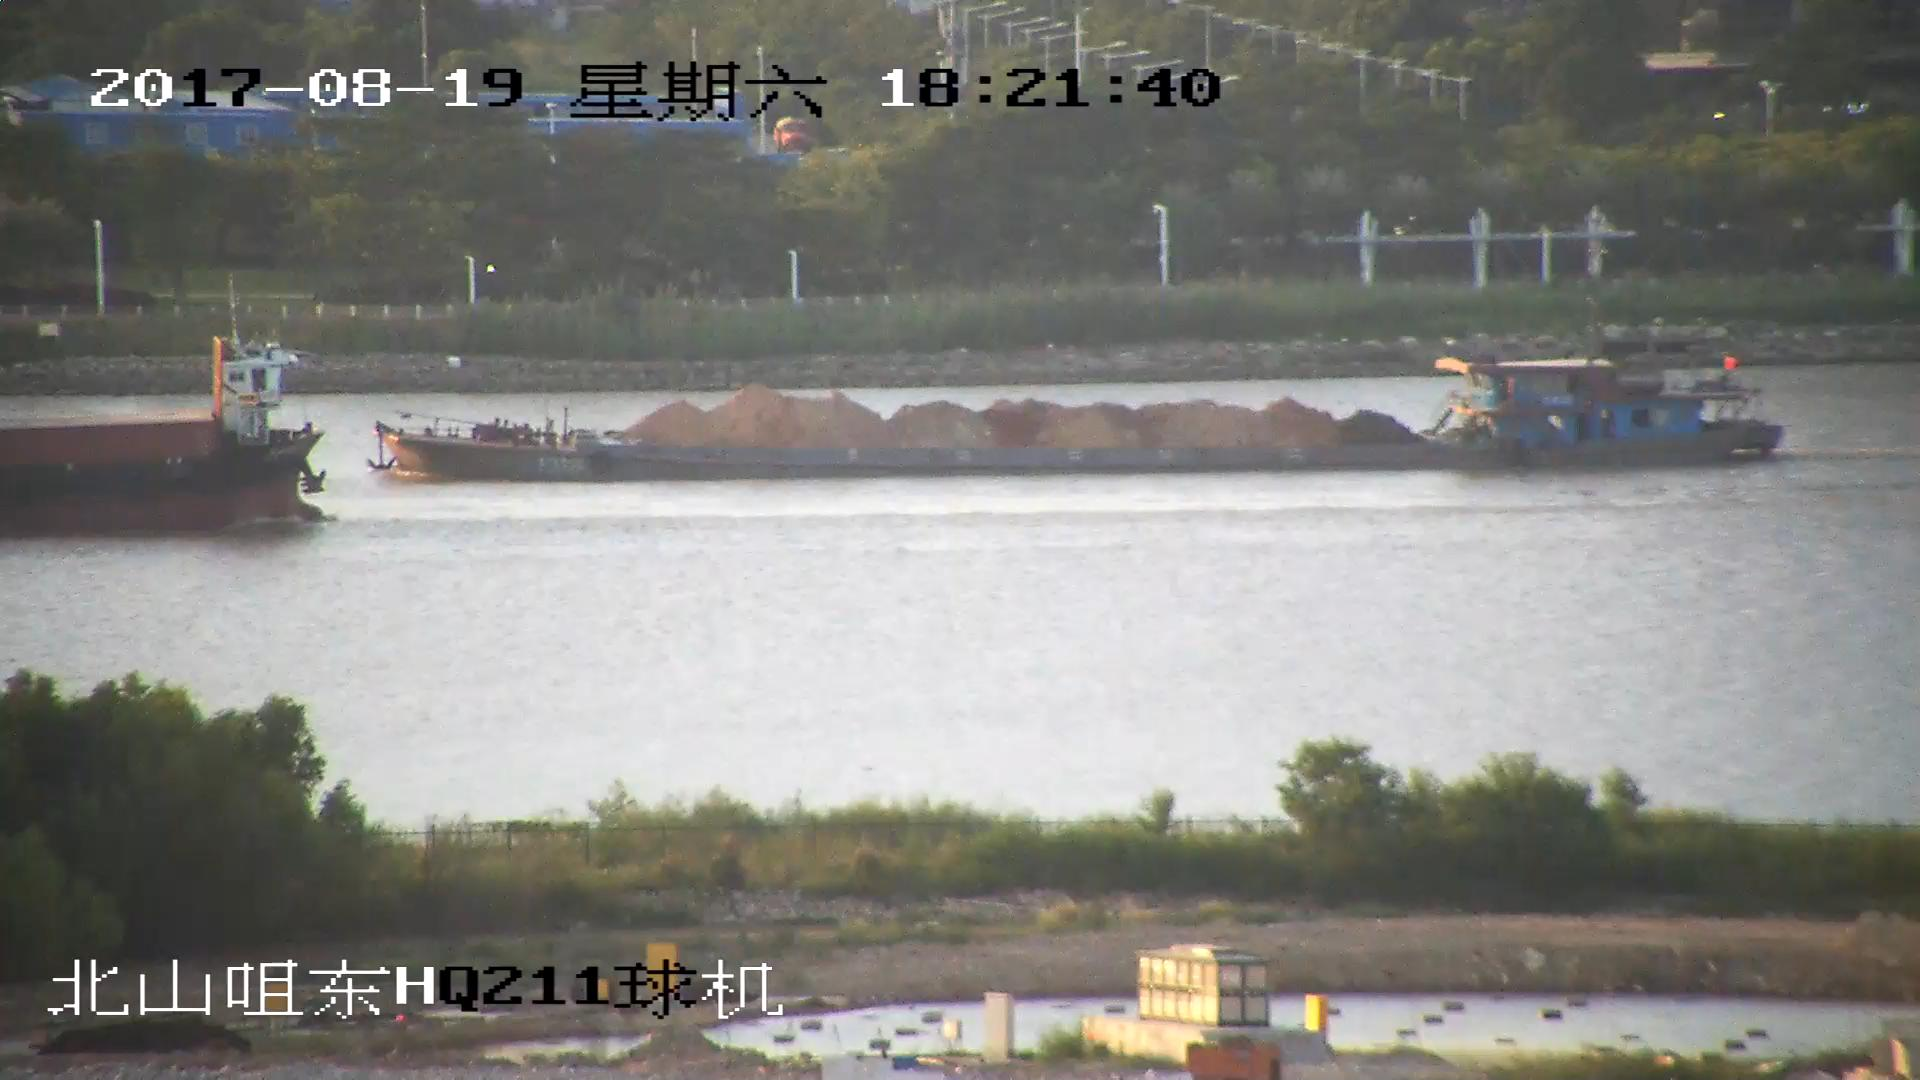container ship: (1, 336, 336, 540)
ore carrier: (375, 356, 1786, 473)
